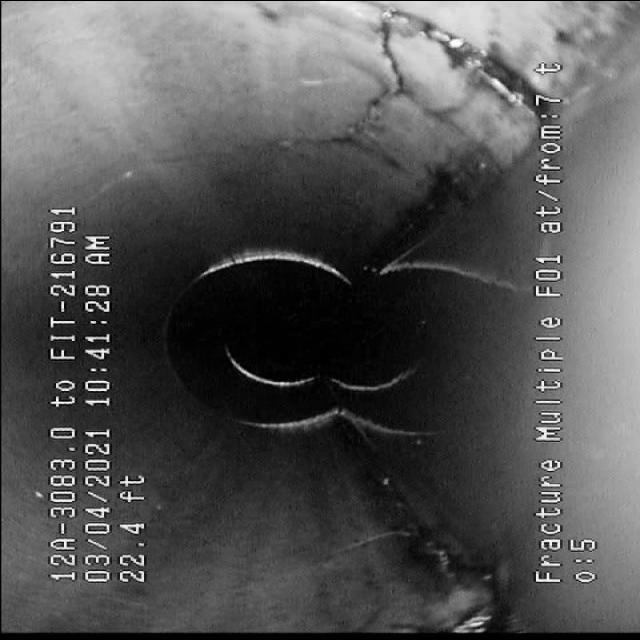Fracture: (233, 19, 447, 175)
